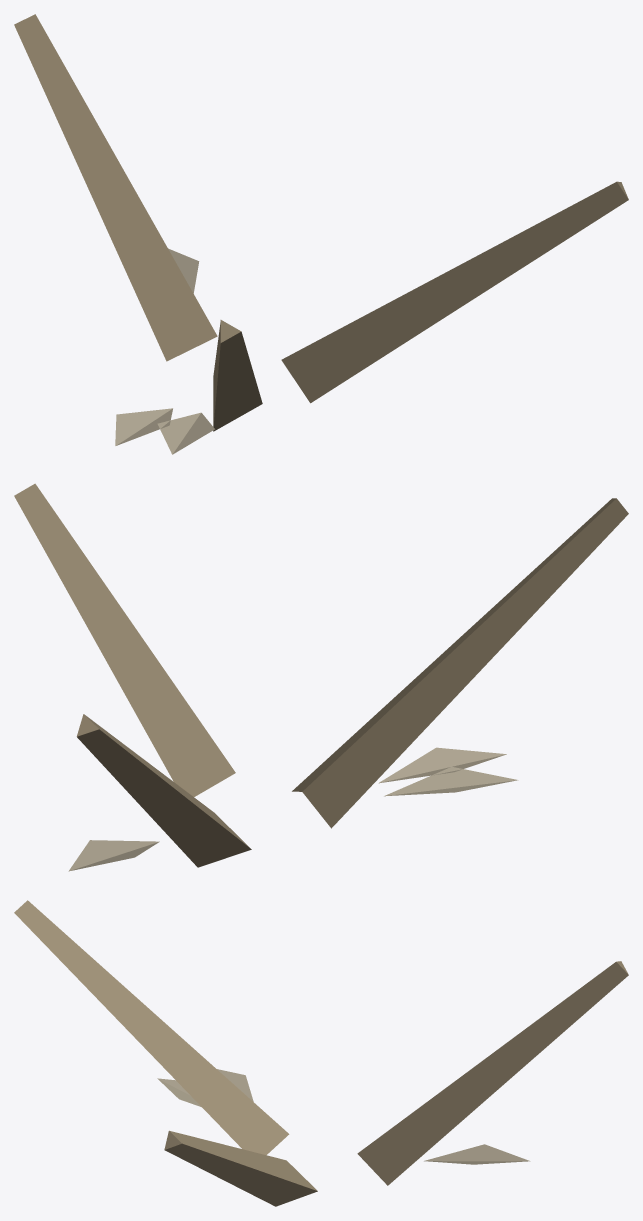
Rendered from guan.zhizi@withered__winter.glb.
3 views of the same model, one above another, from view 1: azimuth 30°, elevation 25°; view 2: azimuth 150°, elevation 25°; view 3: azimuth 270°, elevation 25° (orthographic). The views are drawn at different scales.
Visible parts, largest first — view 1: guan.zhizi@withered__winter; view 2: guan.zhizi@withered__winter; view 3: guan.zhizi@withered__winter.
Boxes of the visible parts, x1,y1,x2,y2 form: guan.zhizi@withered__winter: (14,14,628,454); guan.zhizi@withered__winter: (14,483,628,871); guan.zhizi@withered__winter: (14,900,628,1206).
Size of the model in its own units: 0.6022 by 0.2975 by 0.768.
